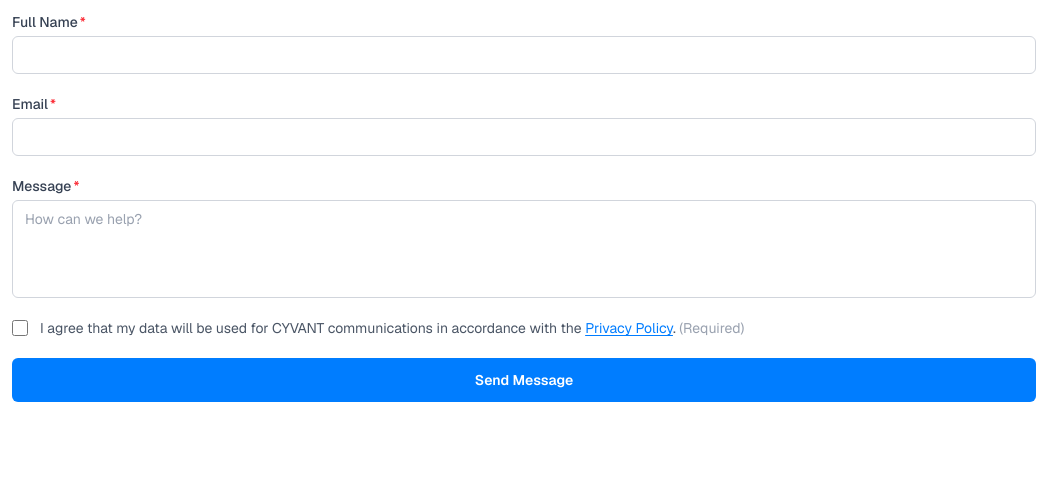
it: GeneralContactForm › shows validation errors when submitted empty
What coordinates should you click on to do the following:
click the button "Send Message"
I would click on:
 (524, 380)
Its box is [12, 358, 1036, 402].
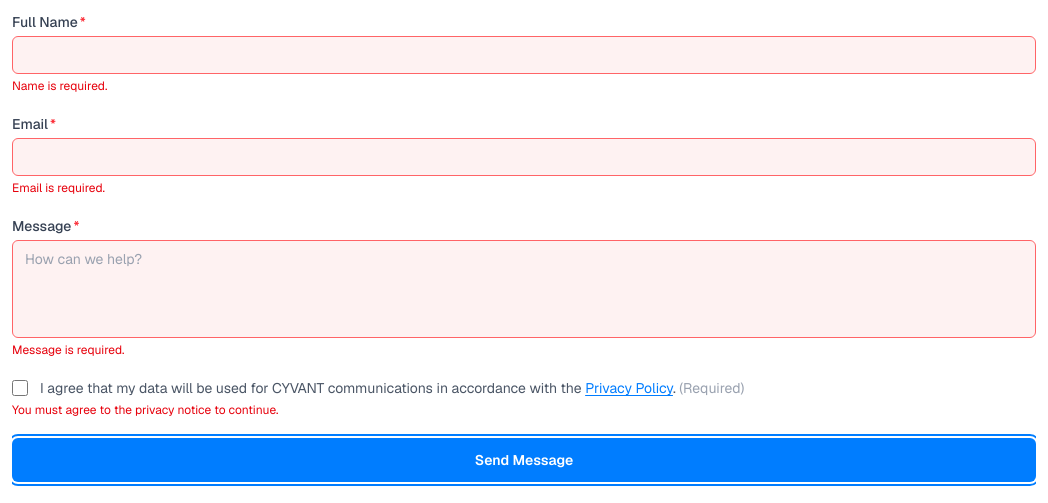
expect the text "Name is required." is shown: met, box [12, 78, 107, 94]
expect the text "Email is required." is shown: met, box [12, 180, 105, 196]
